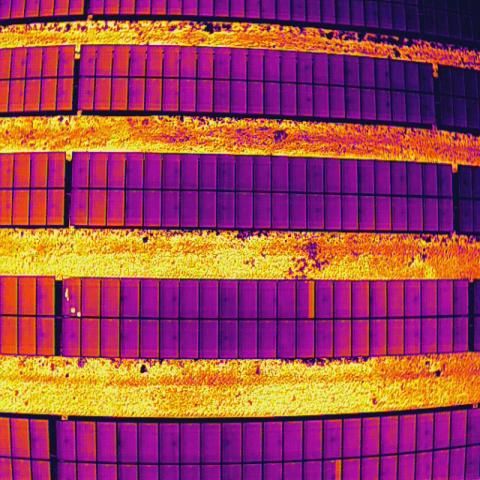fault: (76, 311, 82, 318), (70, 307, 76, 314), (65, 293, 69, 298), (66, 298, 70, 303), (304, 280, 308, 285), (65, 288, 69, 292)
